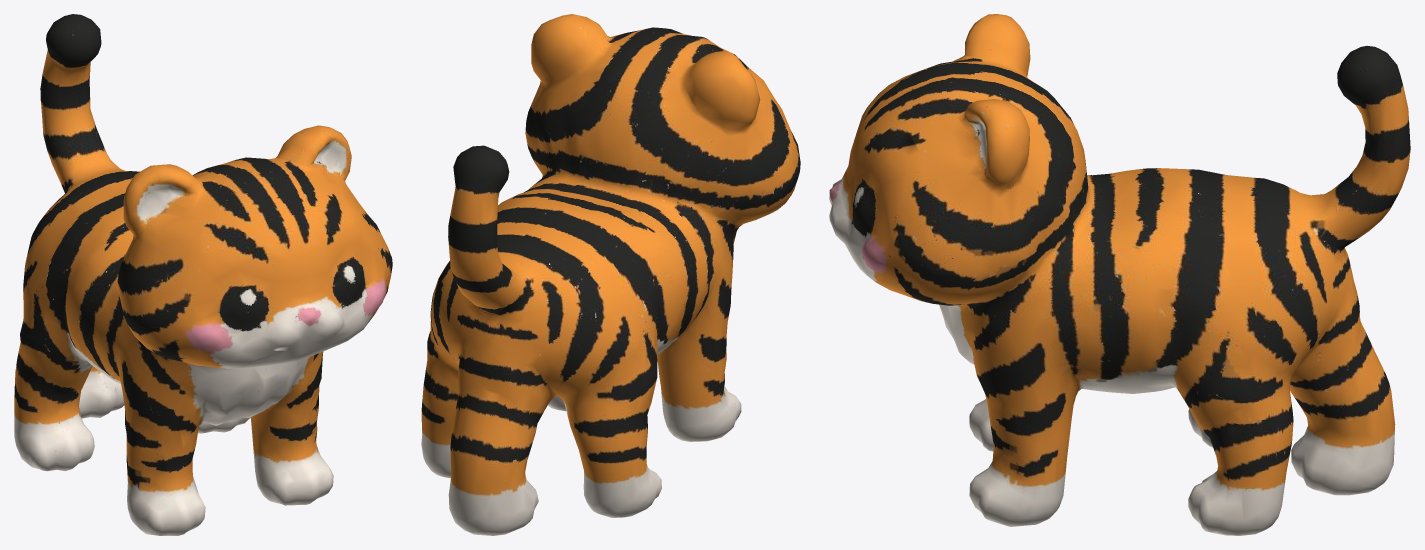
Rendered from tiger.glb.
3 renders of one model, left to right at view 1: azimuth 30°, elevation 25°; view 2: azimuth 150°, elevation 25°; view 3: azimuth 270°, elevation 25°, orthographic. The views are drawn at different scales.
Parts seen in each view (by area): view 1: Mesh_0.001; view 2: Mesh_0.001; view 3: Mesh_0.001.
Part boxes in pixels (x1=…): Mesh_0.001: x1=14, y1=14, x2=392, y2=535; Mesh_0.001: x1=421, y1=14, x2=800, y2=535; Mesh_0.001: x1=829, y1=14, x2=1410, y2=535.
Size of the model in its own units: 1.07 by 1.55 by 1.89.
1 material, 1 textured.
